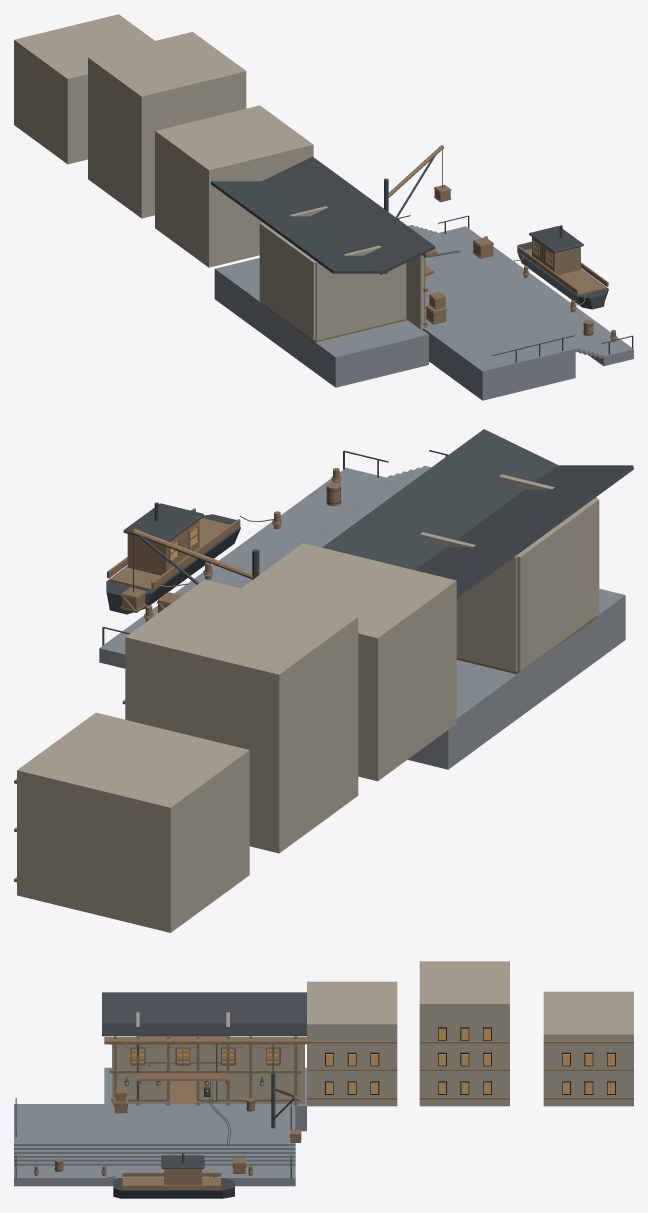
File: harbor.glb
3 views of the same model, one above another, from view 1: azimuth 30°, elevation 25°; view 2: azimuth 150°, elevation 25°; view 3: azimuth 270°, elevation 25° (orthographic). The views are drawn at different scales.
Parts seen in each view (by area): view 1: HarborDecor.005, HarborSolid.005, HarborBoat.005, HarborSteps.005; view 2: HarborDecor.005, HarborSolid.005, HarborBoat.005, HarborSteps.005; view 3: HarborDecor.005, HarborSolid.005, HarborSteps.005, HarborBoat.005.
Boxes of the visible parts, x1,y1,x2,y2 form: HarborDecor.005: (14, 14, 616, 339); HarborSolid.005: (214, 184, 633, 400); HarborBoat.005: (517, 225, 608, 309); HarborSteps.005: (408, 225, 603, 358); HarborDecor.005: (14, 429, 633, 932); HarborSolid.005: (99, 450, 625, 769); HarborBoat.005: (106, 502, 240, 614); HarborSteps.005: (237, 465, 430, 588); HarborDecor.005: (33, 961, 633, 1178); HarborSolid.005: (14, 1012, 306, 1186); HarborSteps.005: (14, 1142, 295, 1165); HarborBoat.005: (113, 1153, 234, 1198).
Bounding box in the file's own units: 24.86 × 12.7 × 55.
